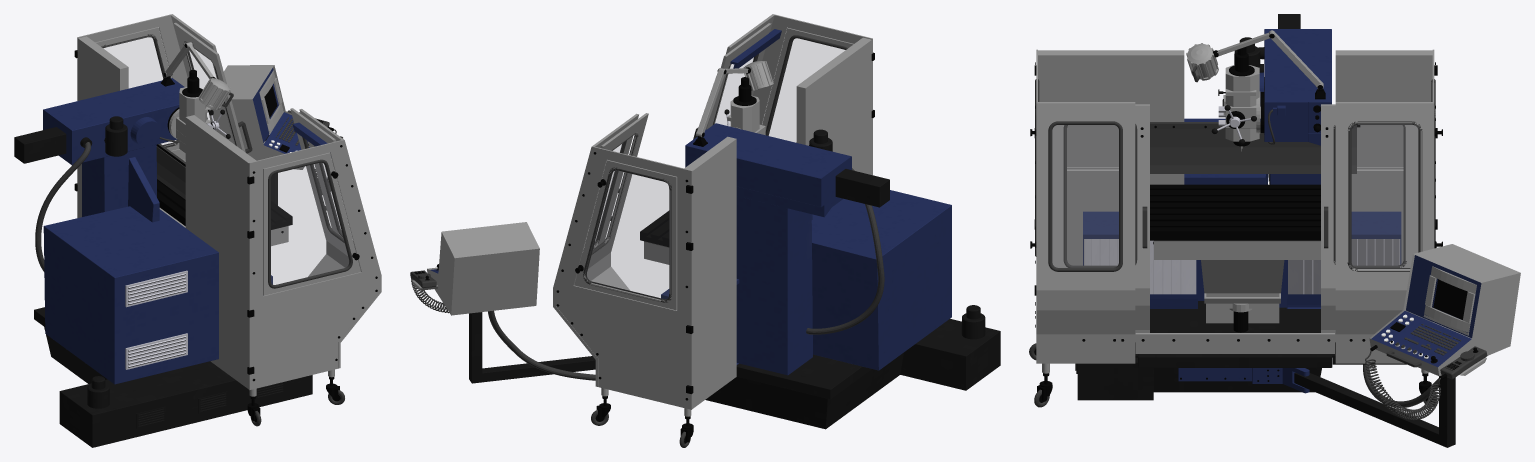
File: cnc_meachine.glb
The picture shows the model from 3 angles, left to right: view 1: azimuth 30°, elevation 25°; view 2: azimuth 150°, elevation 25°; view 3: azimuth 270°, elevation 25°; orthographic projection. The views are drawn at different scales.
Visible parts, largest first — view 1: Cube.002_2, Cube.003_3, Cube.004_4, Cube.009_9, Cube.006_6, Cube.011_10, Cube.005_5, Cube.001_1, Cube_0, Cube.019_21; view 2: Cube.002_2, Cube.003_3, Cube.004_4, Cube.009_9, Cube.006_6, Cube.005_5, Cube.019_21, Cube.001_1; view 3: Cube.002_2, Cube.009_9, Cube.006_6, Cube.004_4, Cube.005_5, Cube.001_1, Cube.003_3, Cube.012_11, Cube.019_21, Cube.014_12.
Boxes of the visible parts, x1,y1,x2,y2 form: Cube.002_2: (77, 14, 381, 396); Cube.003_3: (43, 78, 218, 384); Cube.004_4: (14, 116, 312, 447); Cube.009_9: (104, 36, 348, 284); Cube.006_6: (35, 34, 355, 426); Cube.011_10: (125, 270, 187, 369); Cube.005_5: (74, 43, 377, 422); Cube.001_1: (130, 68, 327, 284); Cube_0: (128, 274, 185, 367); Cube.019_21: (179, 87, 210, 152); Cube.002_2: (412, 14, 872, 416); Cube.003_3: (685, 123, 951, 375); Cube.004_4: (469, 129, 1000, 429); Cube.009_9: (585, 38, 844, 299); Cube.006_6: (410, 35, 884, 447); Cube.005_5: (414, 52, 874, 443); Cube.019_21: (727, 95, 759, 132); Cube.001_1: (430, 29, 781, 364); Cube.002_2: (1036, 30, 1520, 376); Cube.009_9: (1052, 124, 1418, 268); Cube.006_6: (1029, 66, 1487, 420); Cube.004_4: (1075, 14, 1455, 447); Cube.005_5: (1030, 33, 1478, 402); Cube.001_1: (1083, 72, 1481, 393); Cube.003_3: (1184, 29, 1331, 307); Cube.012_11: (1084, 239, 1400, 294); Cube.019_21: (1225, 65, 1259, 141); Cube.014_12: (1433, 279, 1467, 319).
Size of the model in its own units: 200 by 142 by 182.
15 materials, 10 textured.
